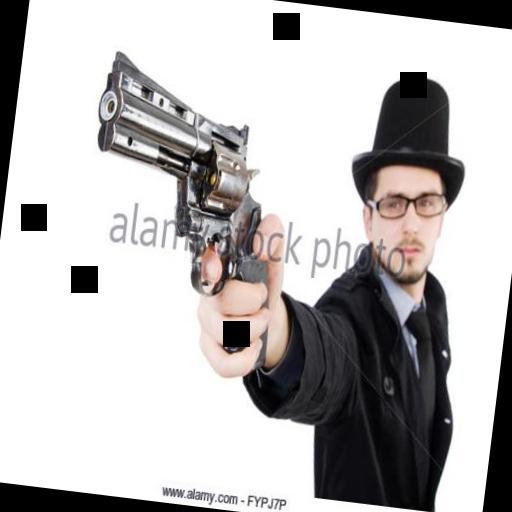Handgun: (67, 45, 300, 374)
